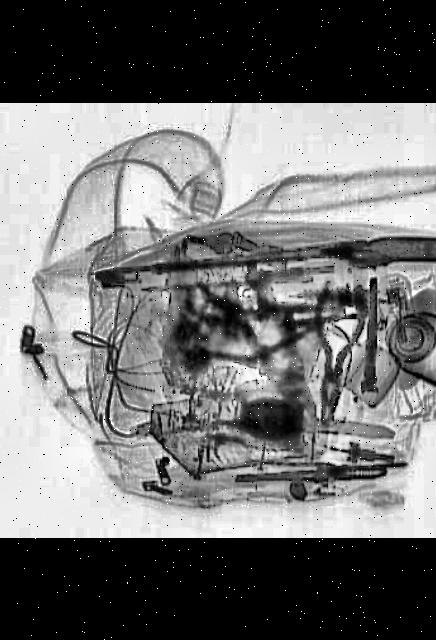Pliers: (296, 276, 371, 422)
